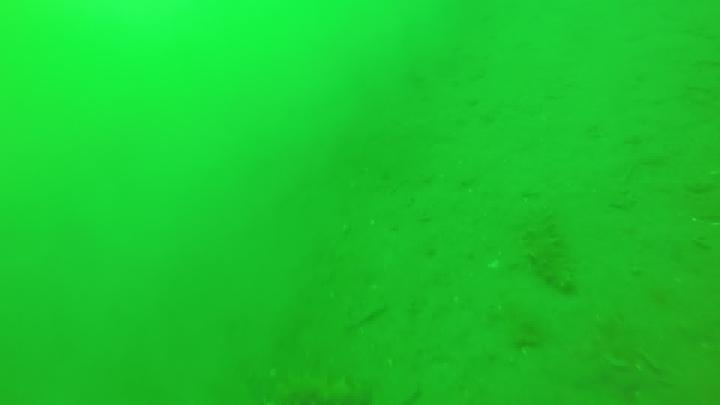holothurian: (518, 205, 581, 297), (261, 369, 375, 405)
